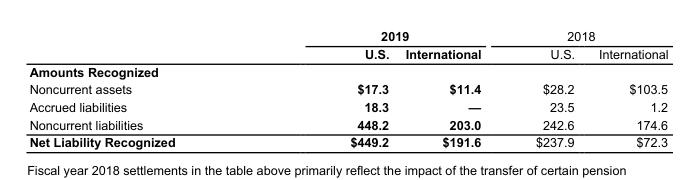table: (28, 28, 667, 149)
table column: (28, 28, 262, 149), (262, 28, 396, 149), (396, 28, 507, 149), (586, 28, 667, 149), (507, 28, 586, 149)
table column header: (28, 28, 667, 62)
table projected row header: (28, 62, 667, 80)
table row: (28, 44, 667, 62), (28, 62, 667, 80), (28, 97, 667, 115), (28, 115, 667, 133), (28, 80, 667, 97), (28, 28, 667, 44), (28, 133, 667, 149)
table spanning cell: (262, 28, 507, 44), (507, 28, 667, 44)
